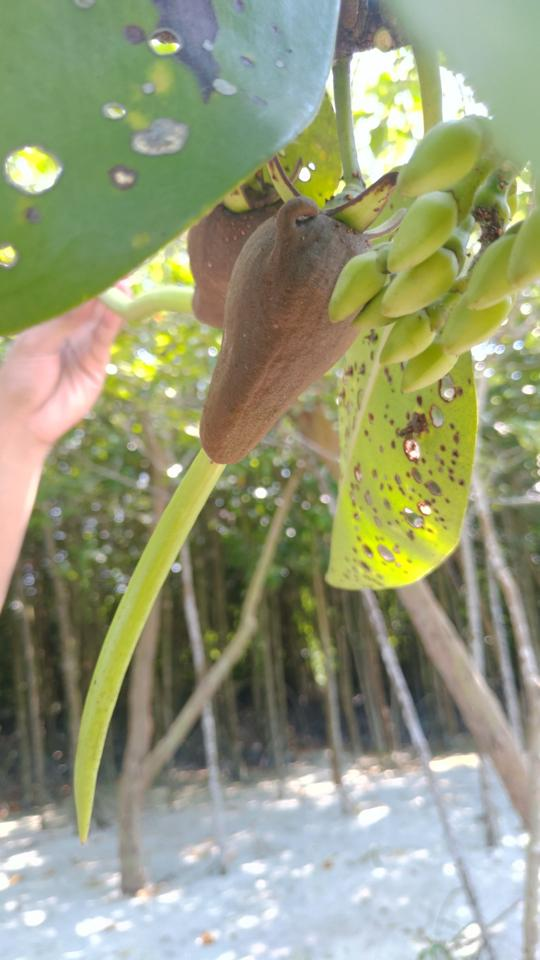mentah: (50, 147, 430, 852)
